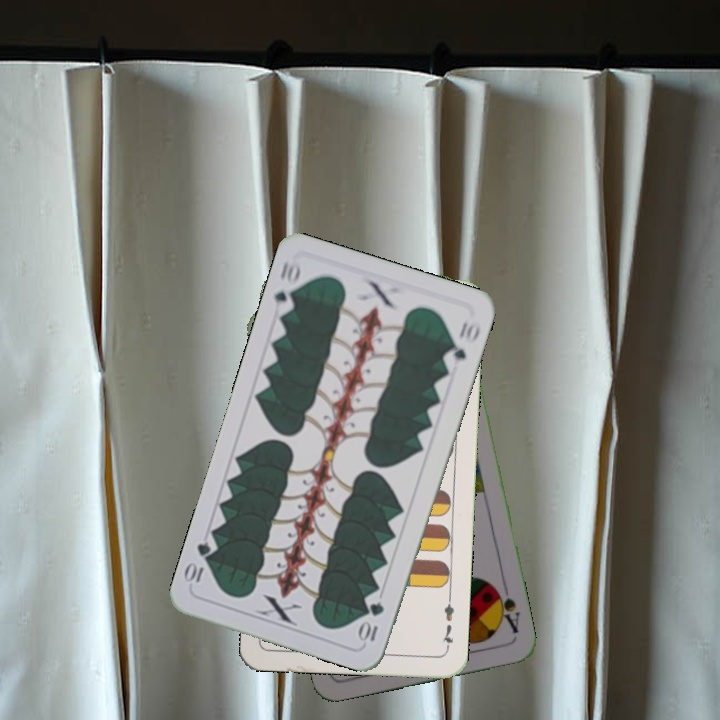E7: (438, 594, 457, 653)
G10: (270, 256, 303, 317), (356, 598, 387, 646)
SA: (490, 581, 523, 636)
